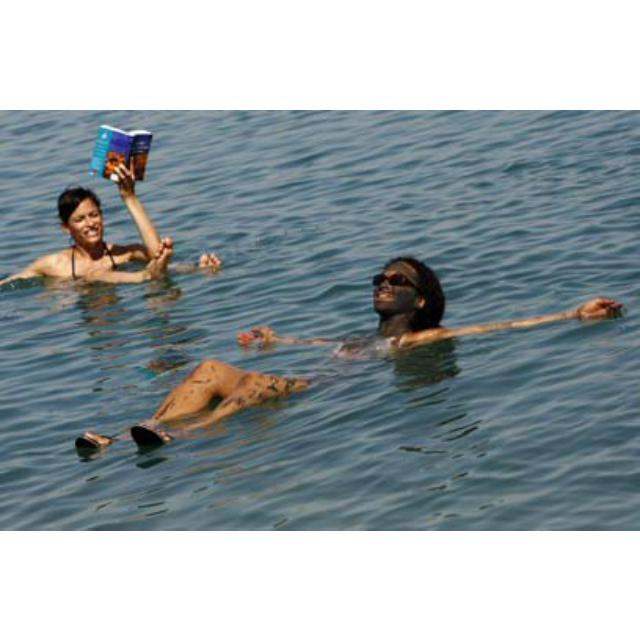human: (73, 245, 626, 466), (16, 164, 227, 302)
